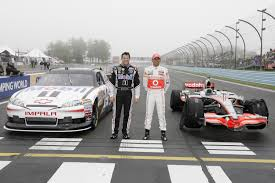FormulaOneCar: (169, 78, 270, 134)
